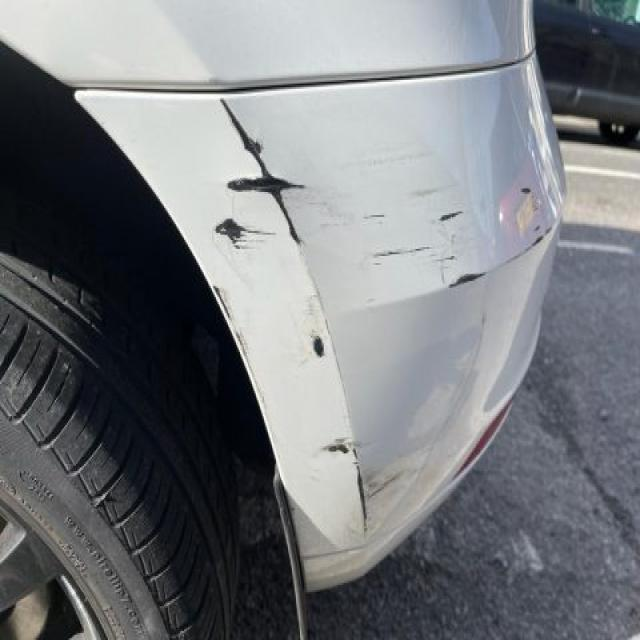scratch: (212, 96, 556, 386), (313, 436, 405, 536), (211, 282, 266, 401)
